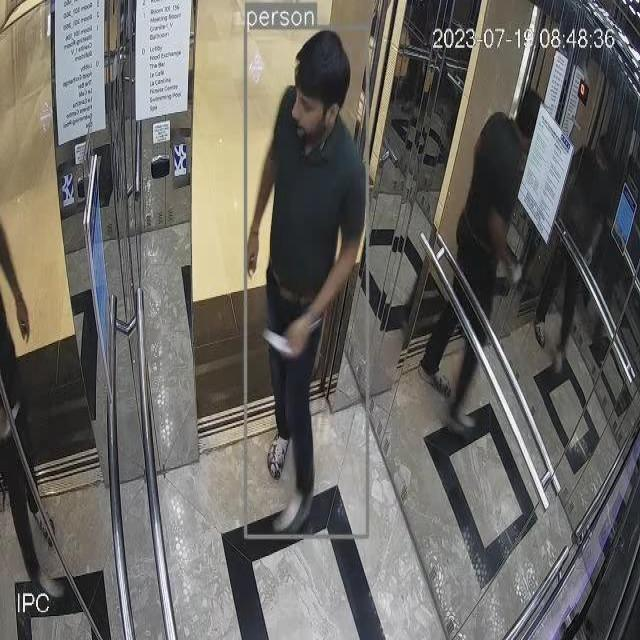person: (247, 29, 366, 532)
